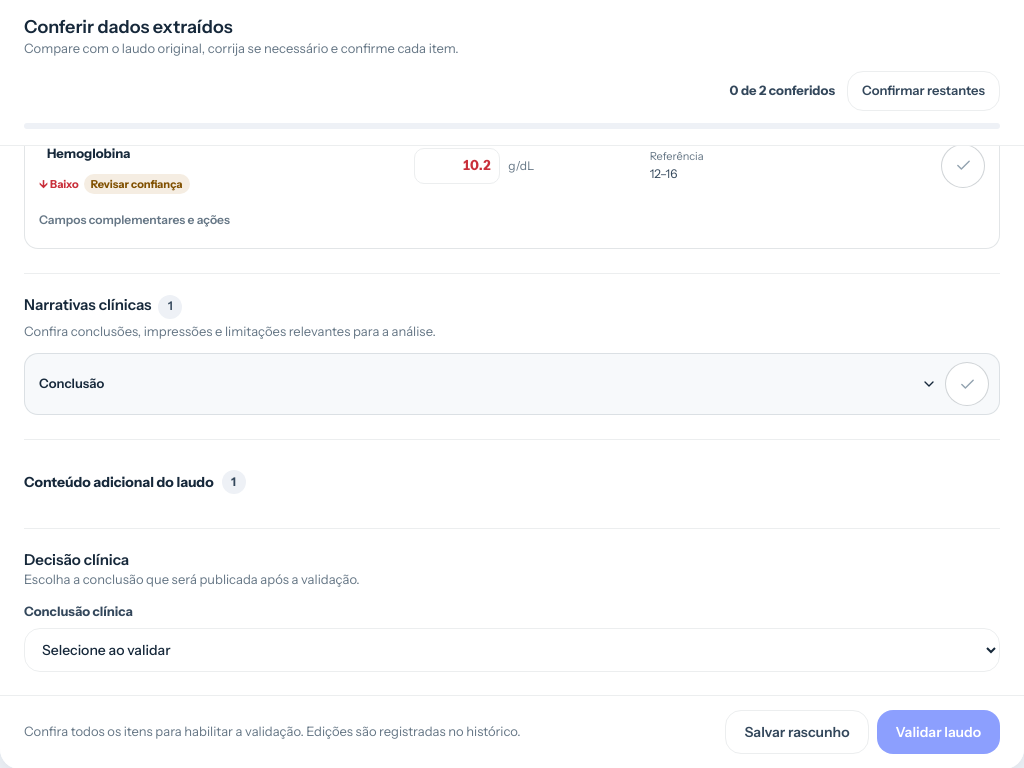
Test case: prefill preserva resultados, narrativa e confiança ausente
(page scrolled)
Expected: the 1st field named "Resultado 1 — nome" holds "Hemoglobina", [39, 137, 402, 171]
Click the button "Conclusão": [72, 383] box [39, 362, 937, 406]
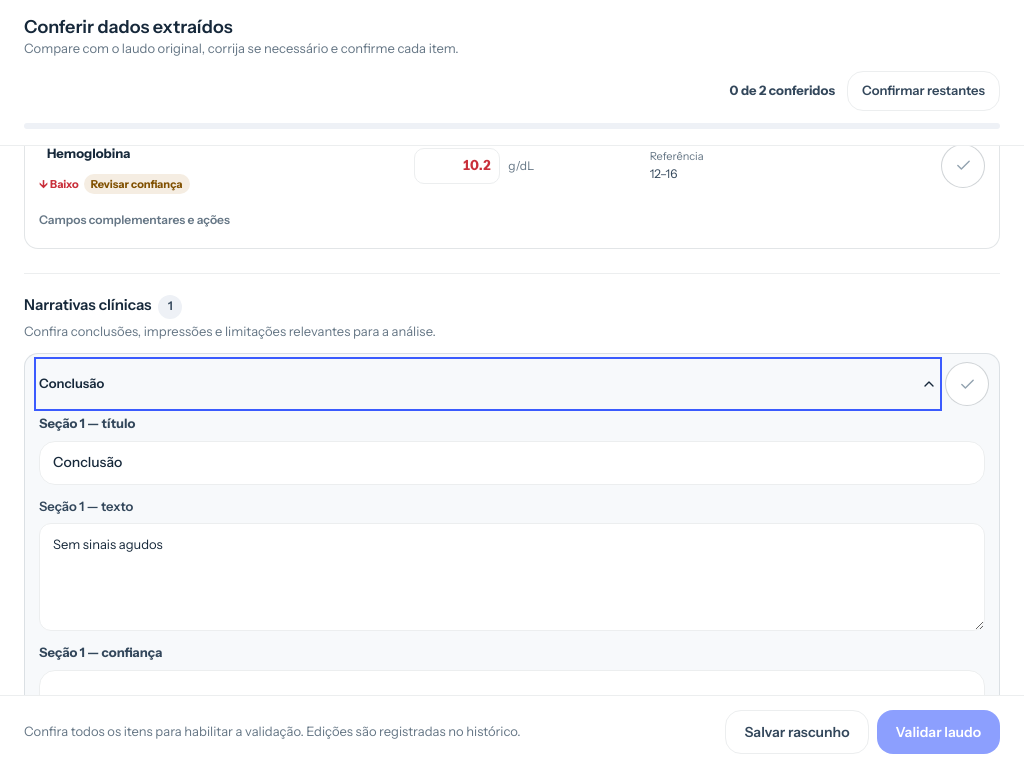
Expected: the field labelled "Seção 1 — confiança" is empty, [39, 670, 985, 714]
Result: the text box labelled "Seção 1 — texto" holds "Sem sinais agudos" at [39, 523, 985, 631]
